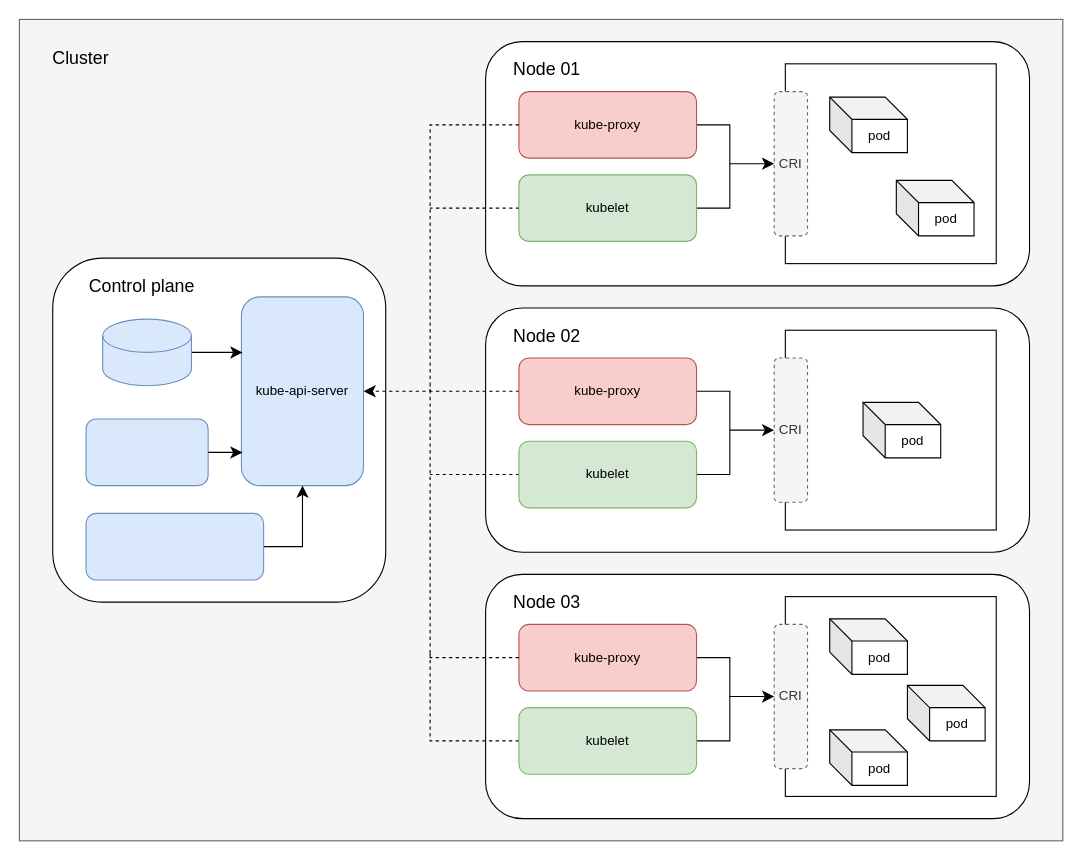
Image size: 1082x860. Some labels were removed from this diagram. Each missing label, with the centre of its shape:
"etcd" belongs at point 146,352.
"kube-controller-manager" belongs at point 174,546.
"kube-scheduler" belongs at point 146,452.
